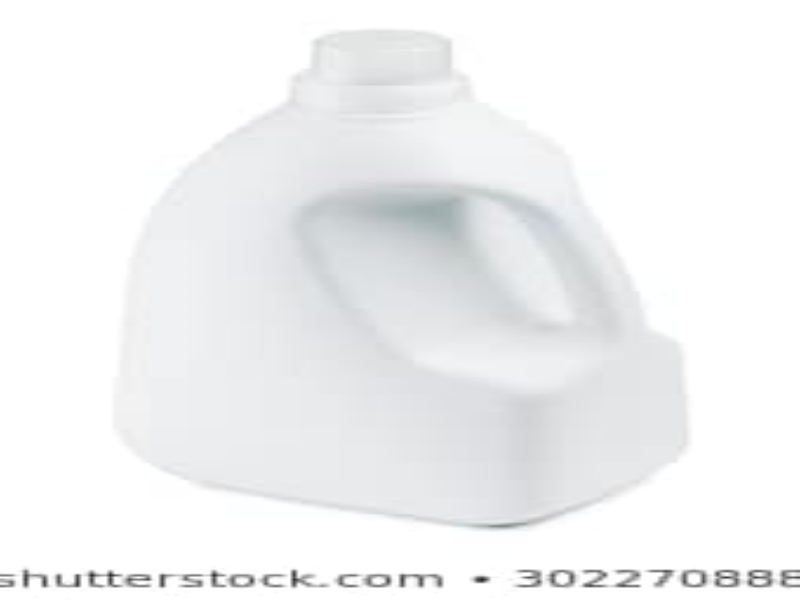detergent-bottle: (107, 26, 699, 529)
